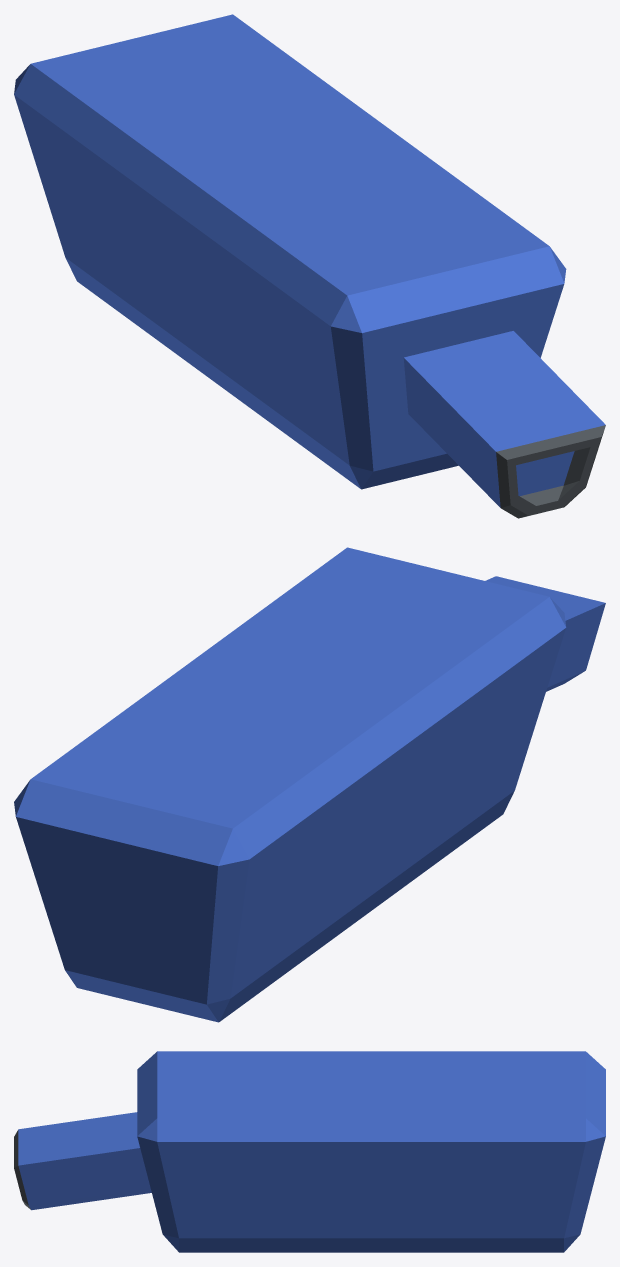
The model's file is Dropship_02_Periscope_Blue.fbx.
3 renders of one model, top to bottom at view 1: azimuth 30°, elevation 25°; view 2: azimuth 150°, elevation 25°; view 3: azimuth 270°, elevation 25°, orthographic. The views are drawn at different scales.
Parts seen in each view (by area): view 1: Dropship_02_Periscope_Blue; view 2: Dropship_02_Periscope_Blue; view 3: Dropship_02_Periscope_Blue.
Boxes of the visible parts, x1=… form: Dropship_02_Periscope_Blue: x1=14, y1=14, x2=605, y2=518; Dropship_02_Periscope_Blue: x1=14, y1=547, x2=605, y2=1022; Dropship_02_Periscope_Blue: x1=14, y1=1051, x2=605, y2=1252.
Bounding box in the file's own units: 130 × 112 × 417.
Materials: 1 (1 with a texture image).
